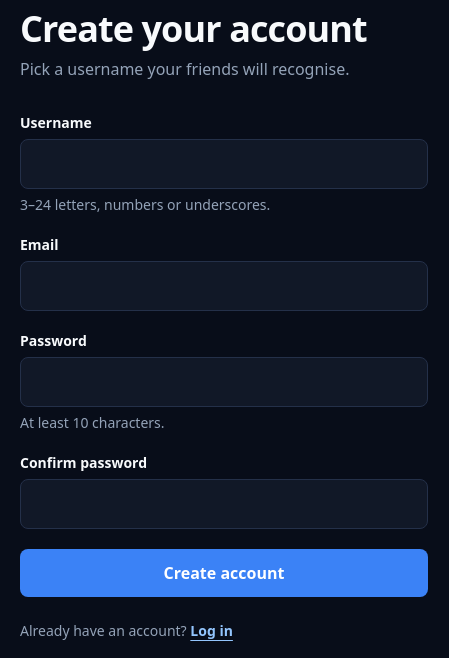
Test: RegisterForm › maps a server 'username_taken' error onto the username field
This screenshot has width=449, height=658.
In the field labelled "Username": (224, 164) [20,139,428,189], type "taken_name"
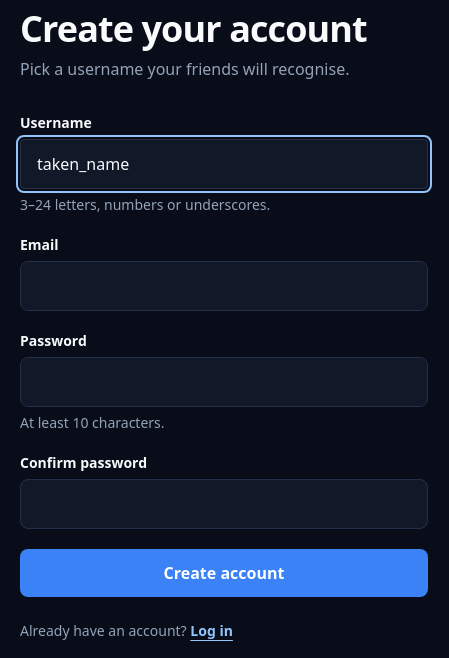
In the field labelled "Email": (224, 286) [20,261,428,311], type "a@b.com"
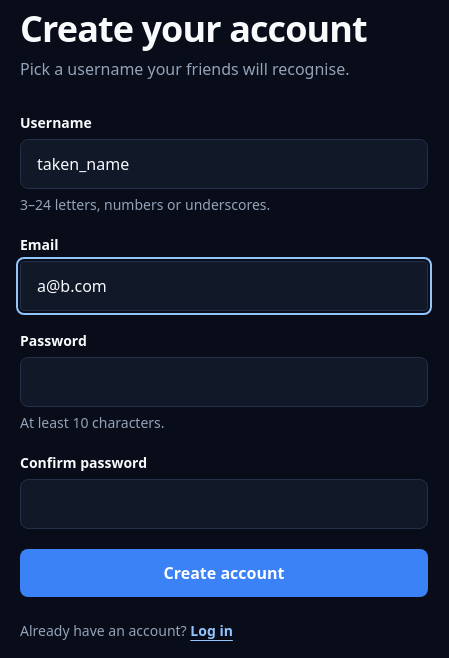
In the password field labelled "Password": (224, 382) [20,357,428,407], type "long-enough-pass"
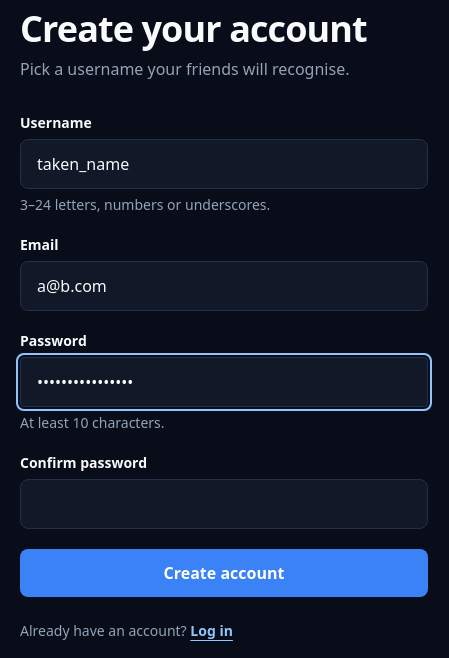
In the password field labelled "Confirm password": (224, 504) [20,479,428,529], type "long-enough-pass"
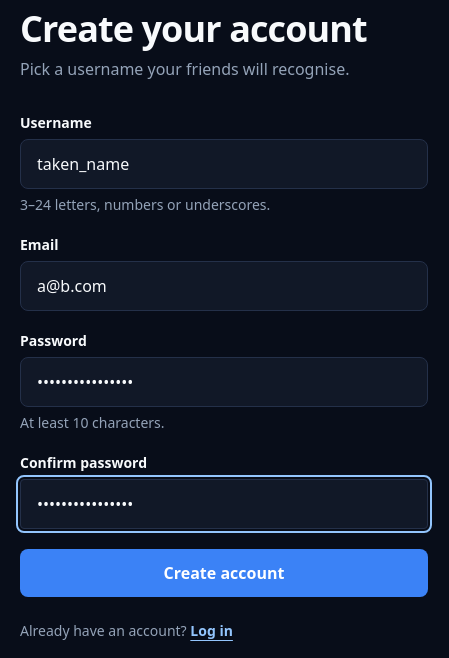
Click the button "Create account": (224, 573) [20,549,428,597]
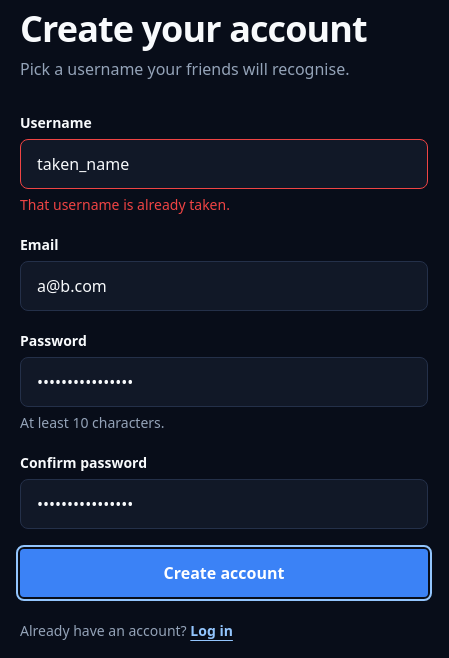
Check: the text "That username is already taken." is shown, box [20,195,230,214]
